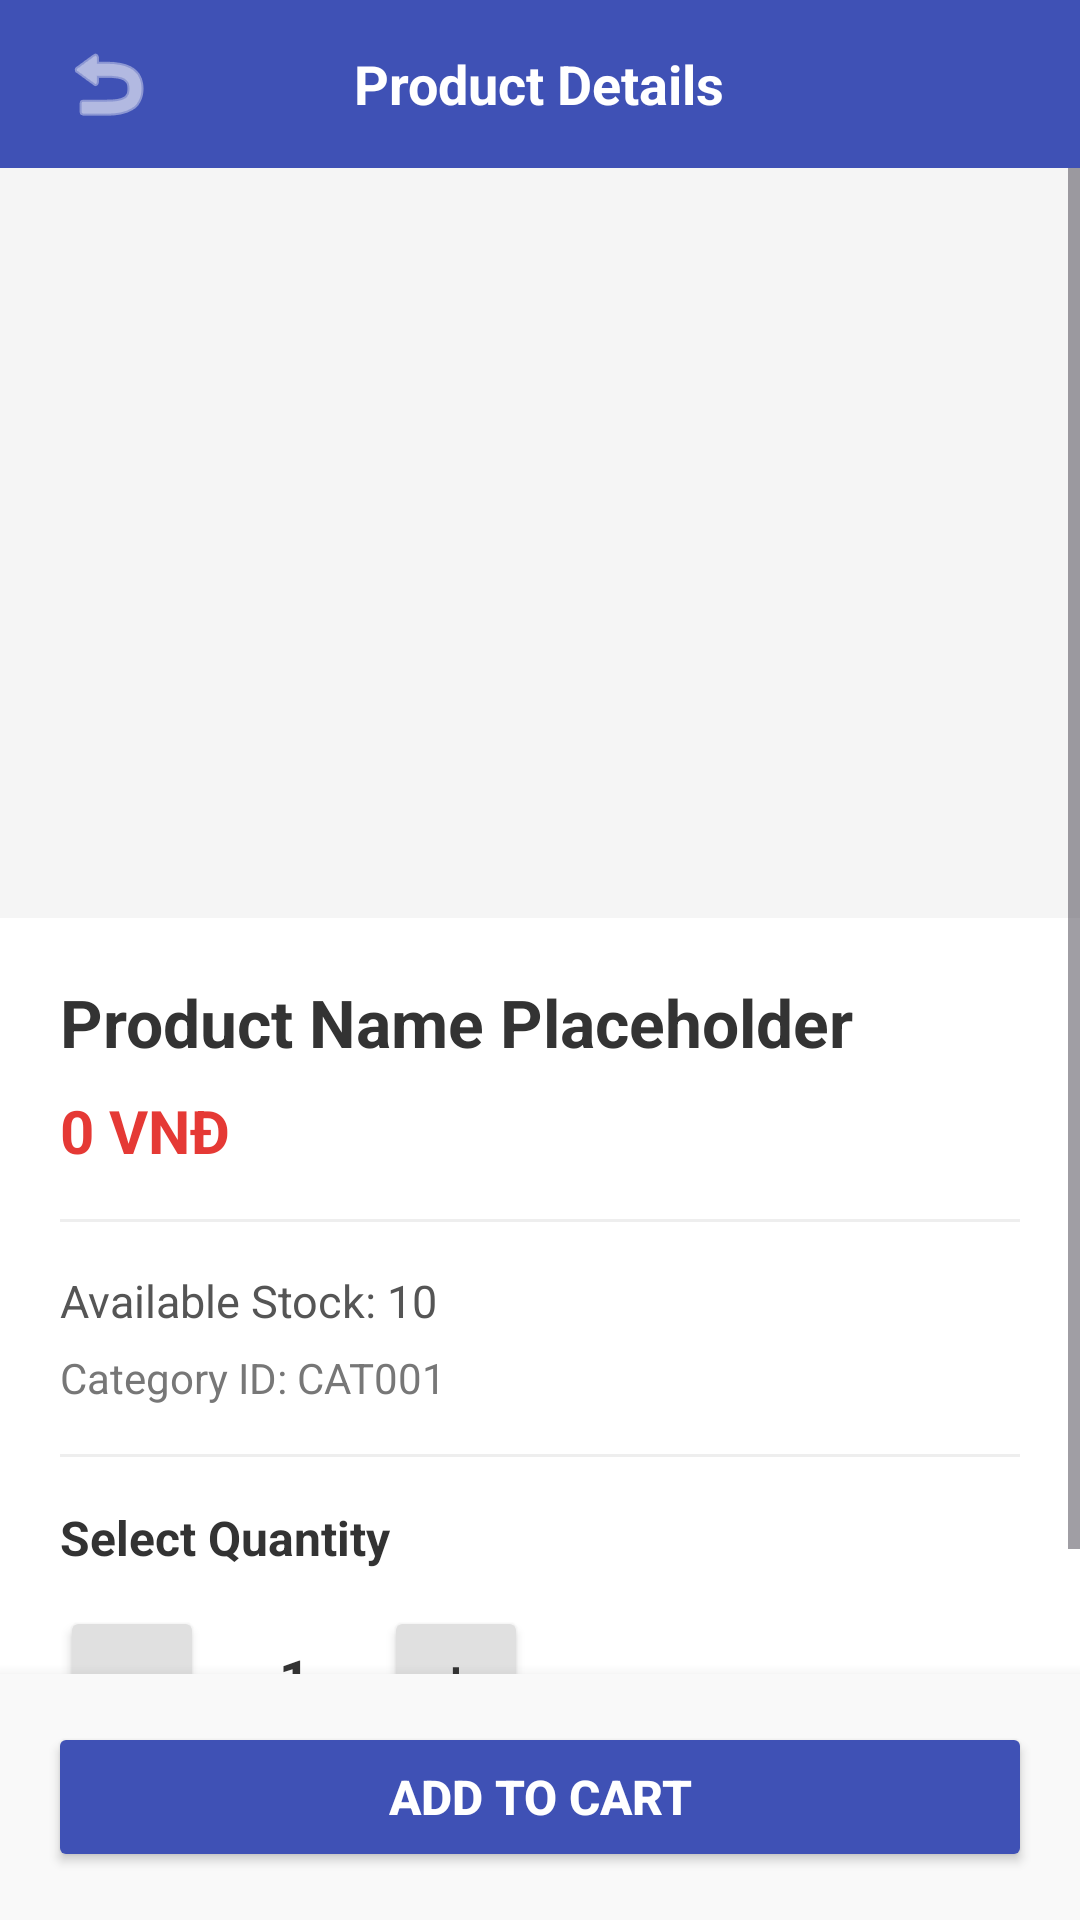

Icon click points for this 1080 x 1920 phone screenshot, format (x=x, y=y):
Back: (x=109, y=84)
